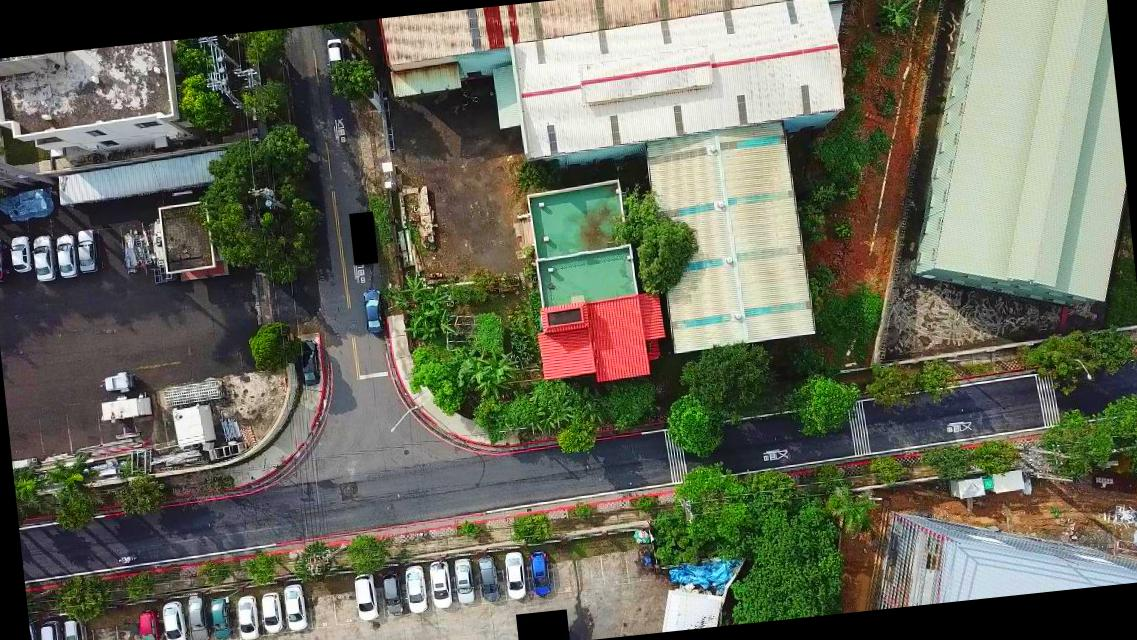vehicle: (402, 562, 430, 614), (503, 548, 529, 602), (354, 572, 380, 622), (75, 227, 102, 274), (428, 559, 452, 611), (31, 234, 57, 282), (380, 568, 405, 617), (185, 591, 210, 639), (478, 552, 501, 604), (160, 598, 189, 639), (284, 580, 307, 631), (452, 556, 476, 604), (236, 594, 262, 638), (210, 594, 235, 639), (298, 336, 320, 386), (530, 550, 553, 597), (325, 35, 348, 81), (9, 233, 34, 275), (55, 233, 78, 278), (362, 290, 384, 336), (262, 588, 284, 634), (135, 604, 162, 639), (62, 612, 92, 639), (37, 618, 66, 639)
